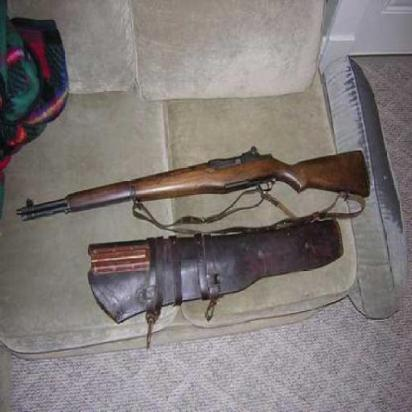Gun: (19, 145, 369, 221)
